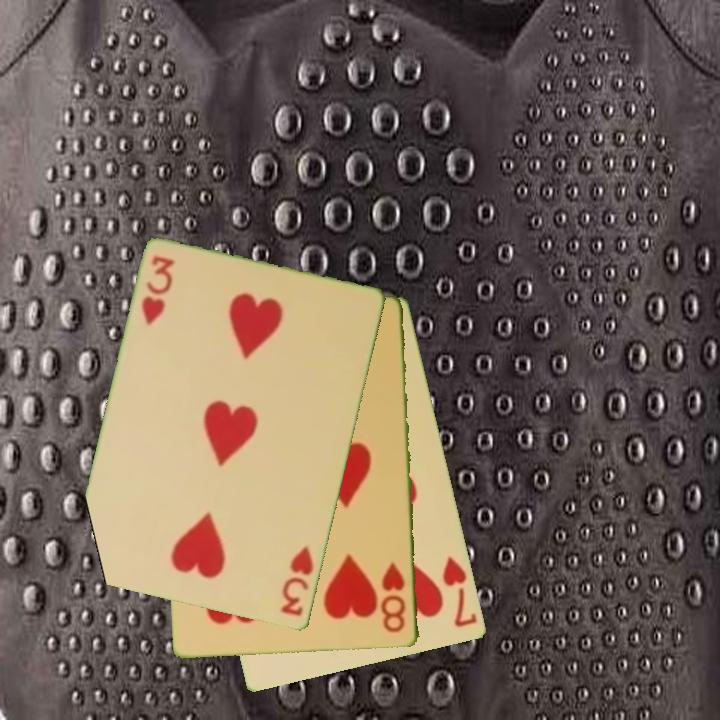3h: (278, 543, 317, 620), (138, 253, 178, 328)
7h: (439, 553, 481, 631)
8h: (379, 560, 409, 636)
